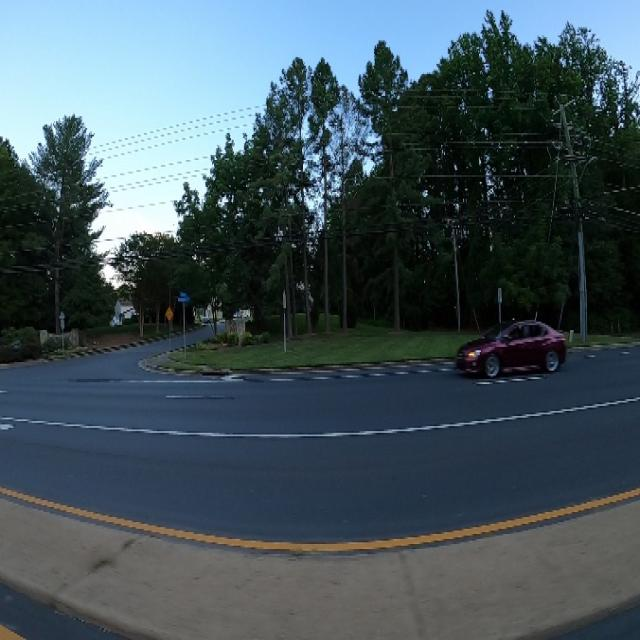car: (448, 290, 570, 389)
